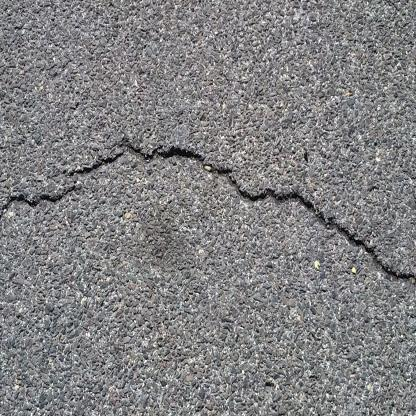Cracks: (0, 137, 416, 284)
